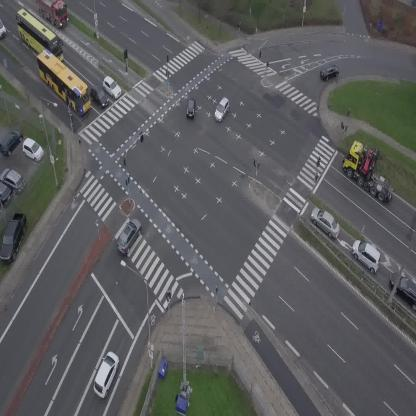bicycle: (68, 113, 75, 128)
bus: (29, 47, 100, 118), (5, 6, 73, 67)
car: (89, 349, 123, 399), (346, 236, 388, 276), (305, 204, 345, 241), (112, 215, 147, 257), (85, 83, 113, 110), (99, 75, 125, 100), (211, 96, 234, 123), (318, 63, 341, 82), (186, 97, 195, 118)
lorry: (335, 134, 399, 214), (39, 0, 68, 28), (0, 19, 6, 39)
